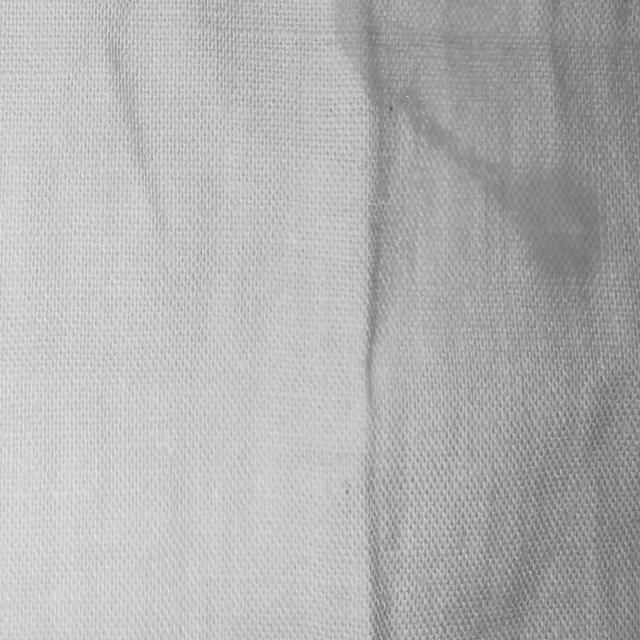Stain: (330, 0, 606, 280)
